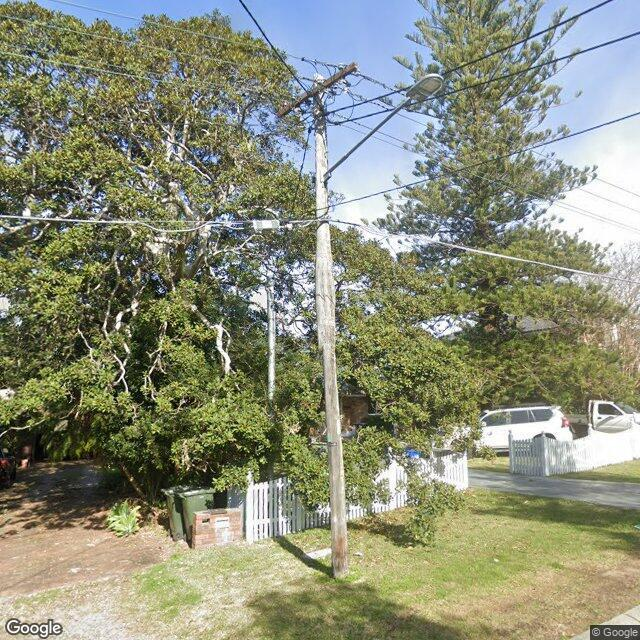crossarm: (272, 61, 359, 121)
steel-pole: (268, 281, 275, 401)
streetlight: (322, 74, 445, 182)
timber-pole: (312, 73, 348, 580)
